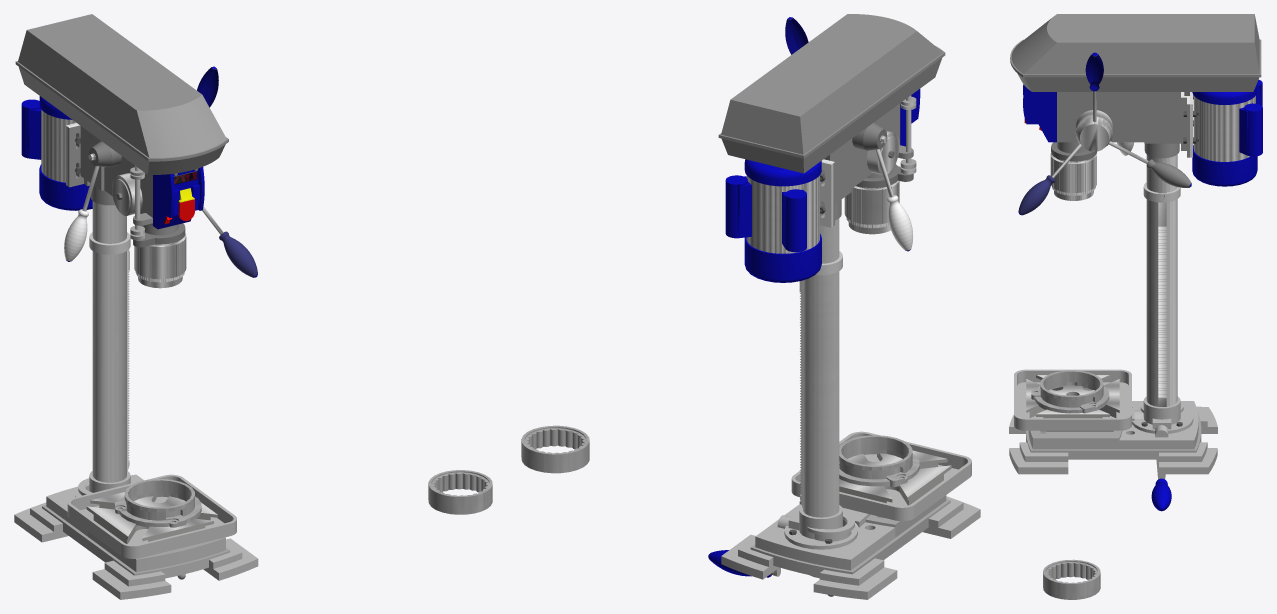
3 views of the same model, side by side, from view 1: azimuth 30°, elevation 25°; view 2: azimuth 150°, elevation 25°; view 3: azimuth 270°, elevation 25° (orthographic). The views are drawn at different scales.
Visible parts, largest first — view 1: 01, 04, 1.001, 2.001, 03, 02.001; view 2: 01, 04, 1.001, 2.001, 03; view 3: 01, 04, 02.001, 1.001, 2.001, 03.
Part boxes in pixels (x1,y1,x2,y2): 01: (14,14,258,599); 04: (67,474,236,579); 1.001: (114,479,201,527); 2.001: (428,470,492,514); 03: (134,233,186,288); 02.001: (197,66,257,277); 01: (718,14,980,599); 04: (708,431,971,596); 1.001: (839,435,919,486); 2.001: (521,425,589,473); 03: (844,180,899,234); 01: (1009,14,1262,474); 04: (1014,369,1183,511); 02.001: (1018,52,1191,215); 1.001: (1031,370,1109,413); 2.001: (1043,559,1100,599); 03: (1050,152,1096,200).
Size of the model in its own units: 320 by 383 by 197.
Materials: 37 (10 with a texture image).
